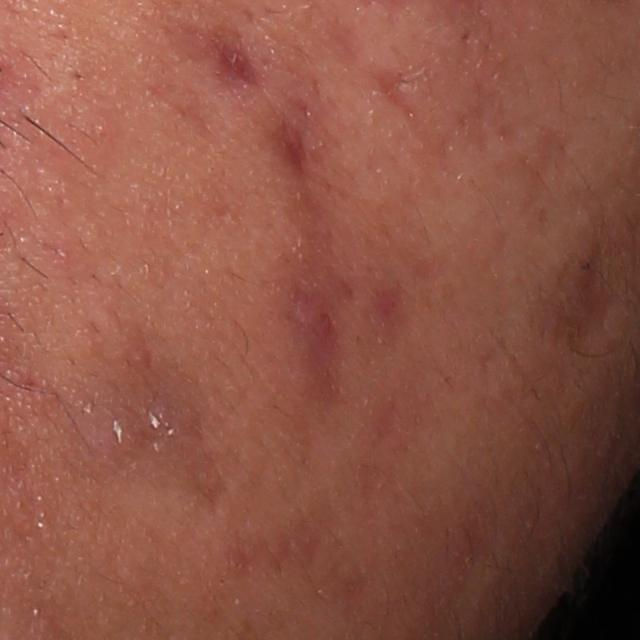atrophic_scar: (274, 218, 354, 442), (92, 376, 217, 492), (249, 519, 365, 600), (542, 230, 608, 368), (180, 4, 264, 86), (254, 94, 324, 192), (359, 54, 428, 133)
